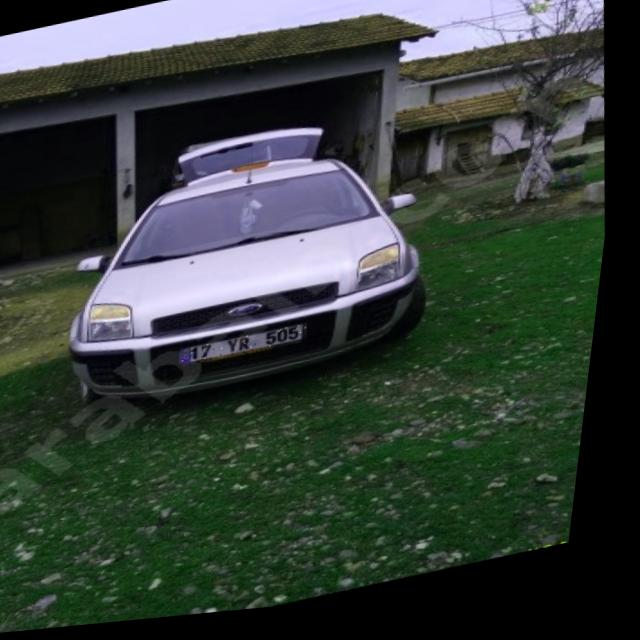license_plate: (187, 326, 317, 371)
